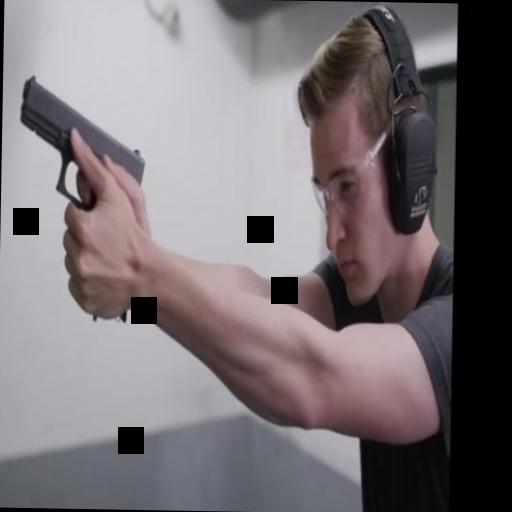Handgun: (12, 74, 147, 322)
